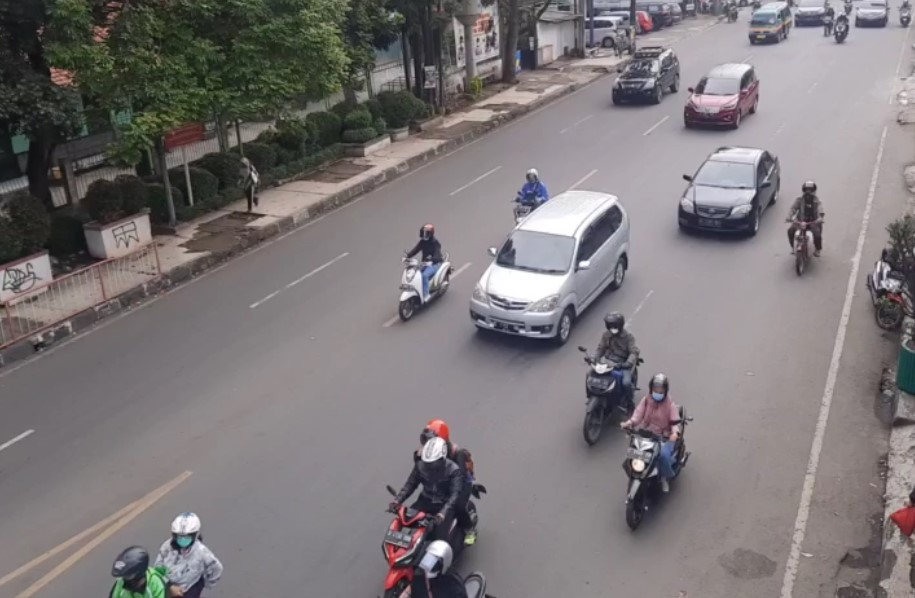motor: (382, 419, 491, 591), (623, 385, 688, 531), (575, 310, 640, 440), (394, 225, 455, 320), (787, 179, 824, 276)
